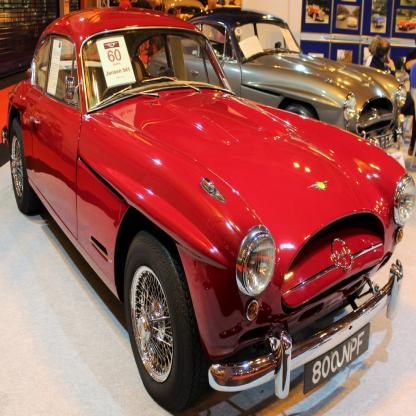Car: (10, 4, 416, 416), (152, 7, 408, 155), (371, 13, 385, 29), (310, 10, 327, 22), (400, 22, 415, 33), (348, 17, 359, 26), (339, 14, 348, 22)
